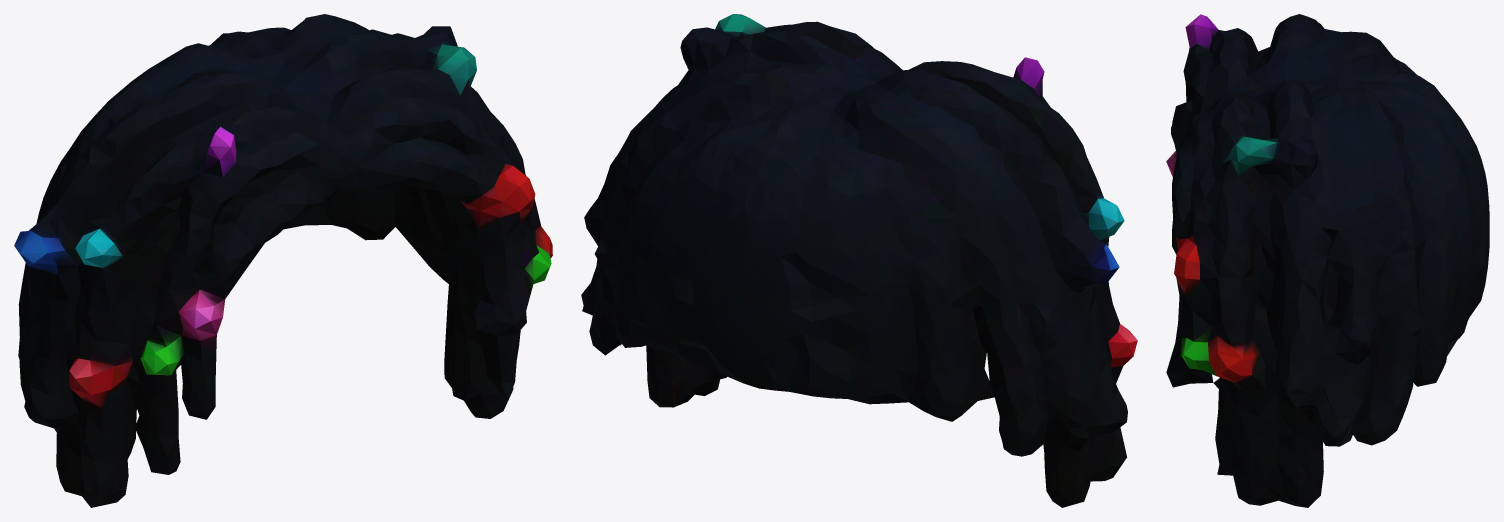
File: hairstyle_004.glb
3 renders of one model, left to right at view 1: azimuth 30°, elevation 25°; view 2: azimuth 150°, elevation 25°; view 3: azimuth 270°, elevation 25°, orthographic. The views are drawn at different scales.
Parts seen in each view (by area): view 1: geometry_0_004; view 2: geometry_0_004; view 3: geometry_0_004.
Boxes of the visible parts, x1=… form: geometry_0_004: x1=14, y1=14, x2=552, y2=507; geometry_0_004: x1=581, y1=14, x2=1137, y2=507; geometry_0_004: x1=1166, y1=14, x2=1489, y2=507.
Bounding box in the file's own units: 1.41 × 1.04 × 0.8247.
Materials: 1 (1 with a texture image).
